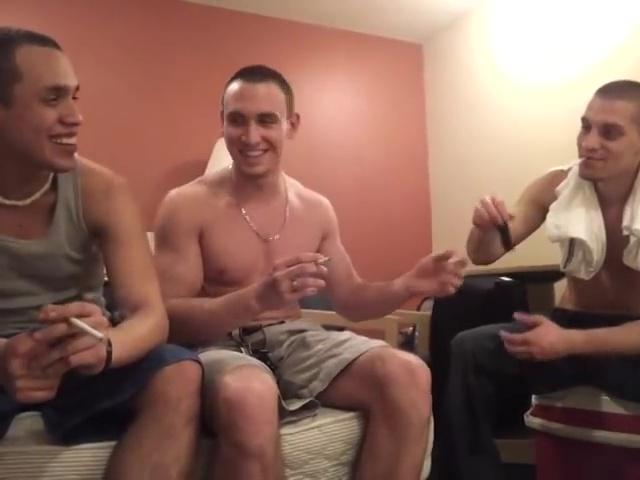cigarette: (65, 313, 107, 344), (556, 156, 588, 173), (314, 255, 332, 268)
